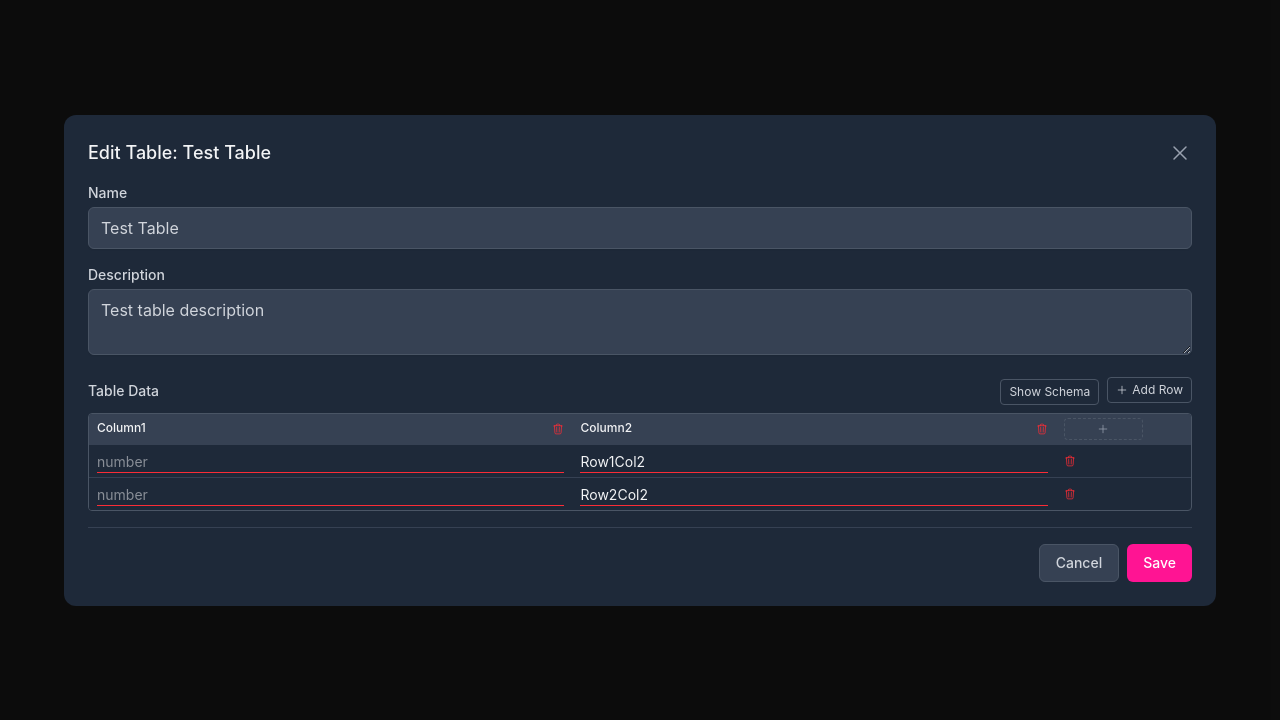
it: KnowledgeUnitEditModal › Schema editor › should load existing TableSchema correctly
# Show schema editor
Click the button "Show Schema". click: point(1050, 392)
box: [1000, 378, 1099, 404]
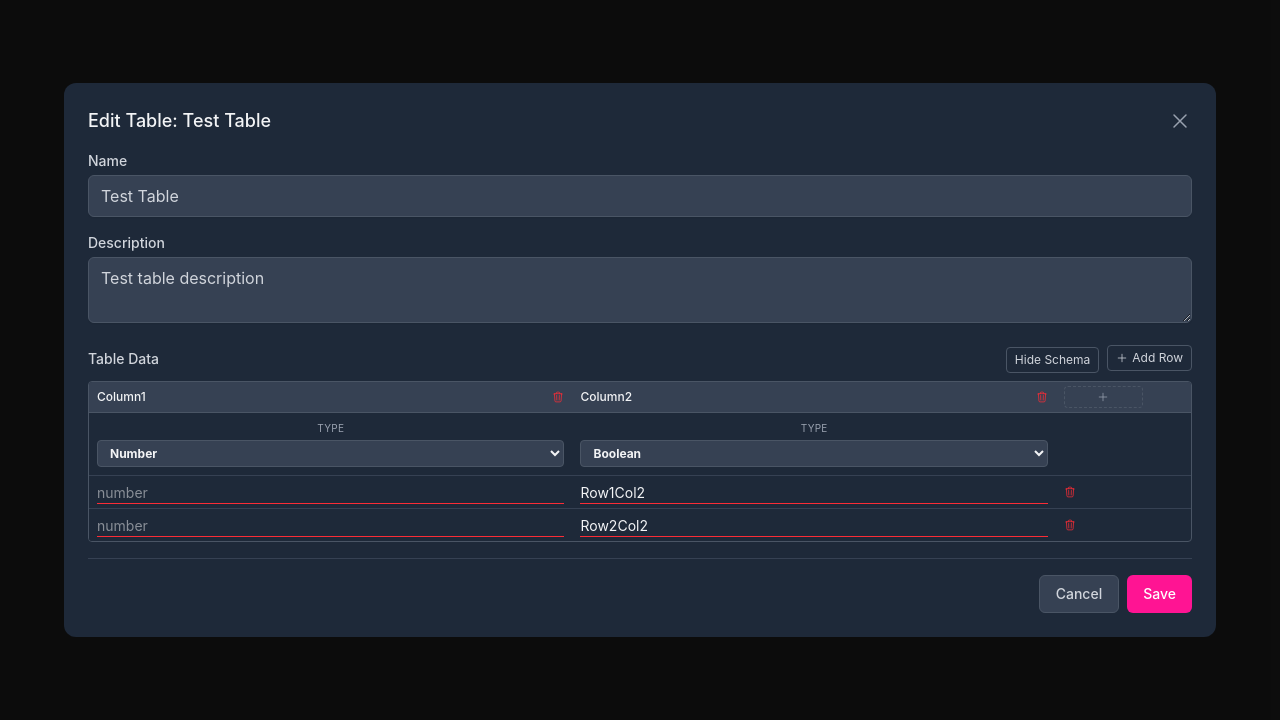
expect the 1st dropdown shows "Number": met, box [97, 440, 564, 467]
expect the 2nd dropdown shows "Boolean": met, box [580, 440, 1048, 467]
